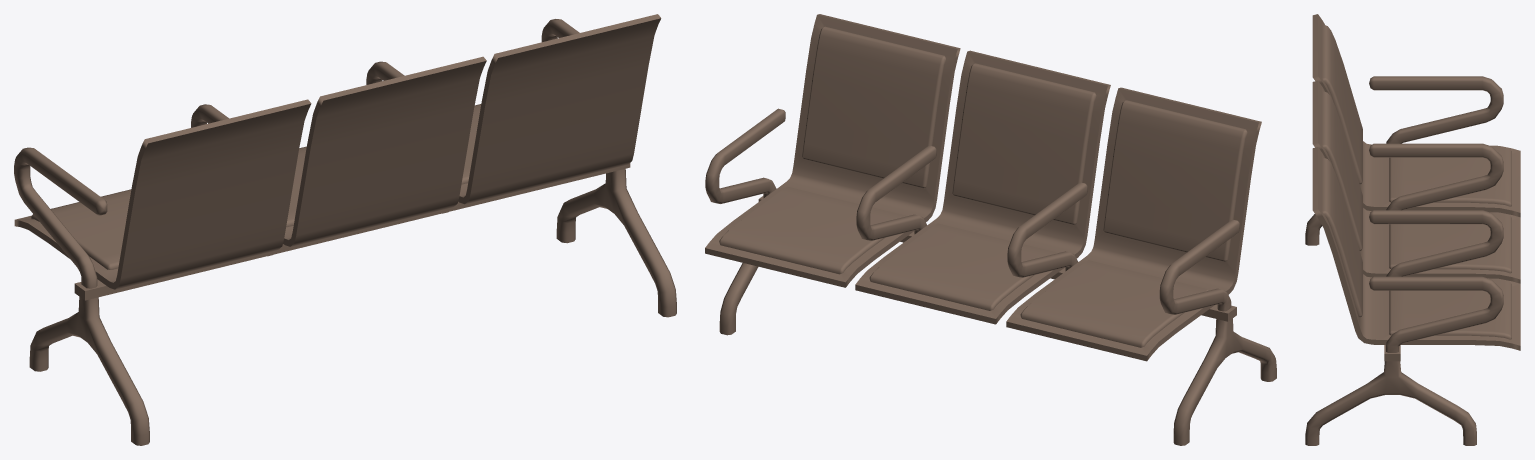
The model's file is banco.fbx.
3 views of the same model, side by side, from view 1: azimuth 30°, elevation 25°; view 2: azimuth 150°, elevation 25°; view 3: azimuth 270°, elevation 25° (orthographic). The views are drawn at different scales.
Parts seen in each view (by area): view 1: banco; view 2: banco; view 3: banco.
Boxes of the visible parts, box(x1,y1,x2,y2) form: banco: box(14, 14, 676, 445); banco: box(705, 14, 1276, 445); banco: box(1305, 14, 1520, 445).
Size of the model in its own units: 150 by 78.36 by 65.85.
